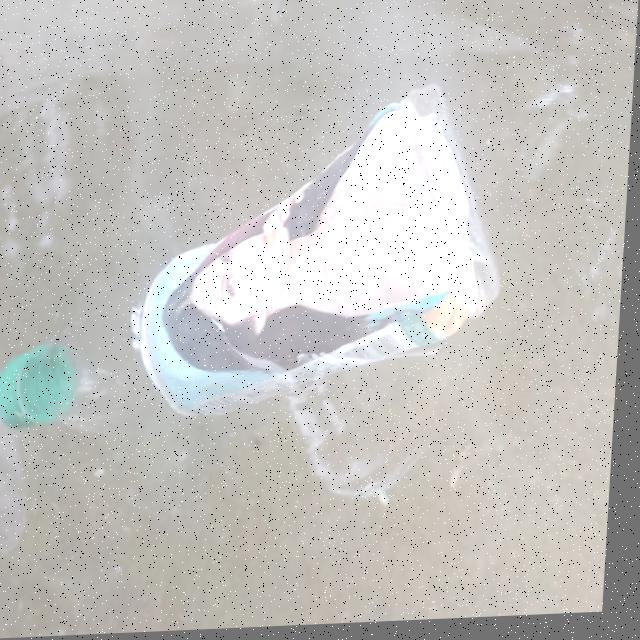waterbottle: (0, 54, 560, 482)
